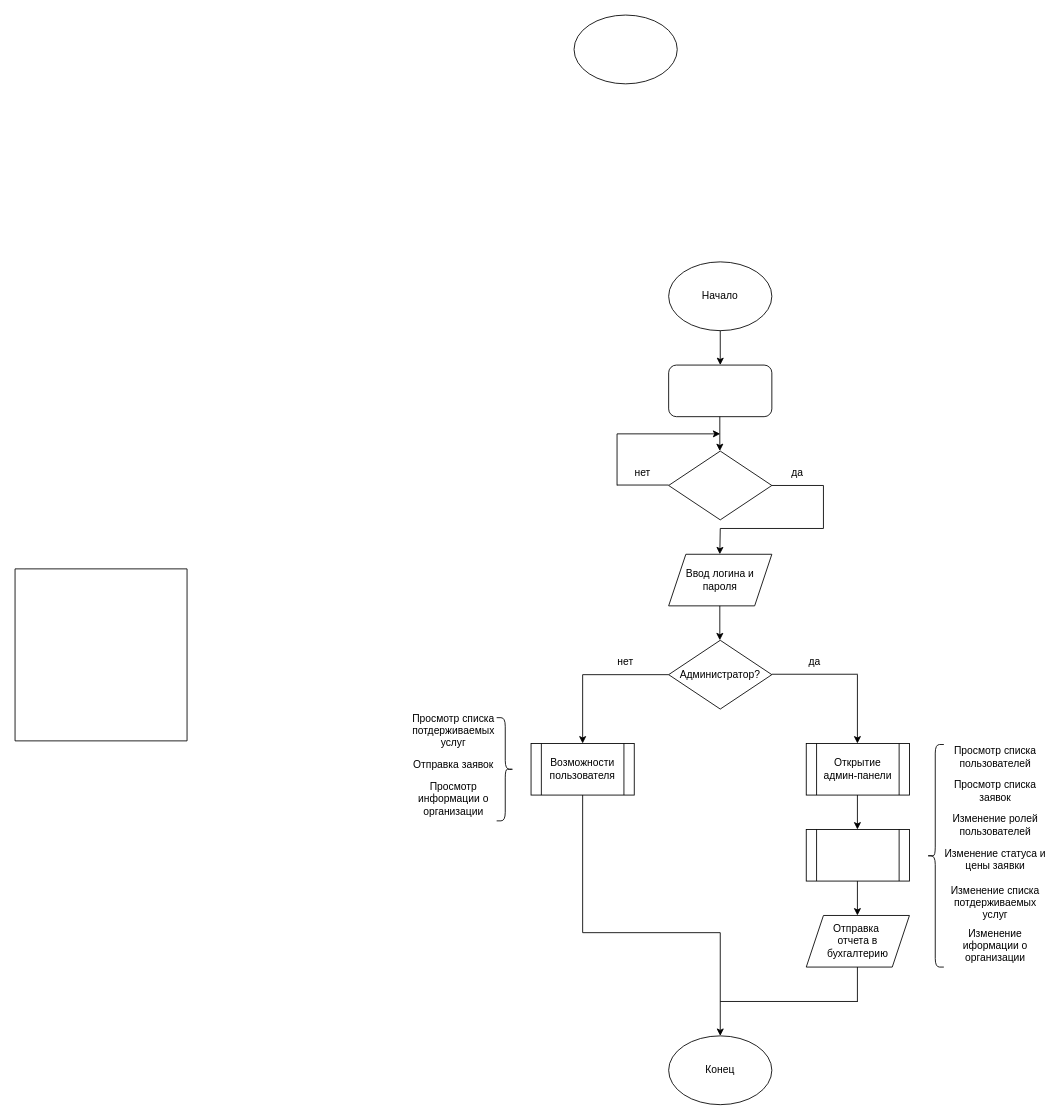
Image size: 1062x1120. Some labels were removed from this diagram. Each missing label, with the centre of its shape:
Авторизоваться?: (x=720, y=485)
Возможности администратора: (x=857, y=855)
Запуск приложения "ServiTech": (x=720, y=390)
